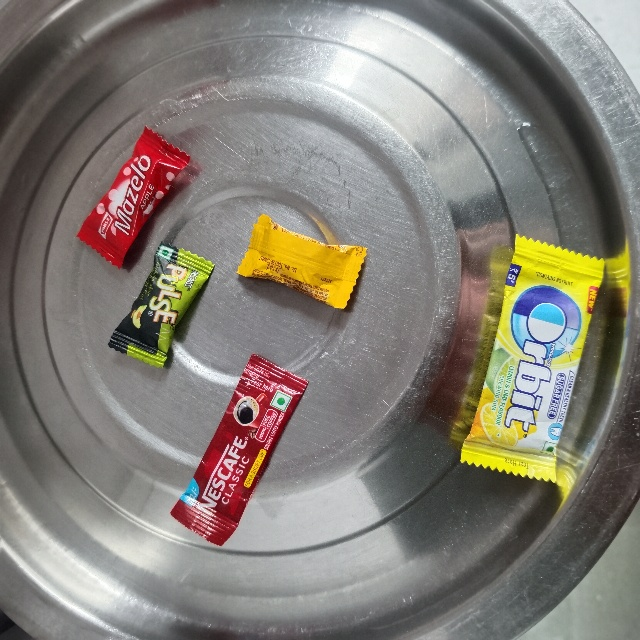Alpenlibe Creamfills: (267, 207, 379, 279)
Mazelo: (145, 123, 205, 256)
Nescafe Coffee: (249, 350, 318, 535)
Orbit: (515, 235, 613, 471)
Pulse: (164, 235, 225, 352)
